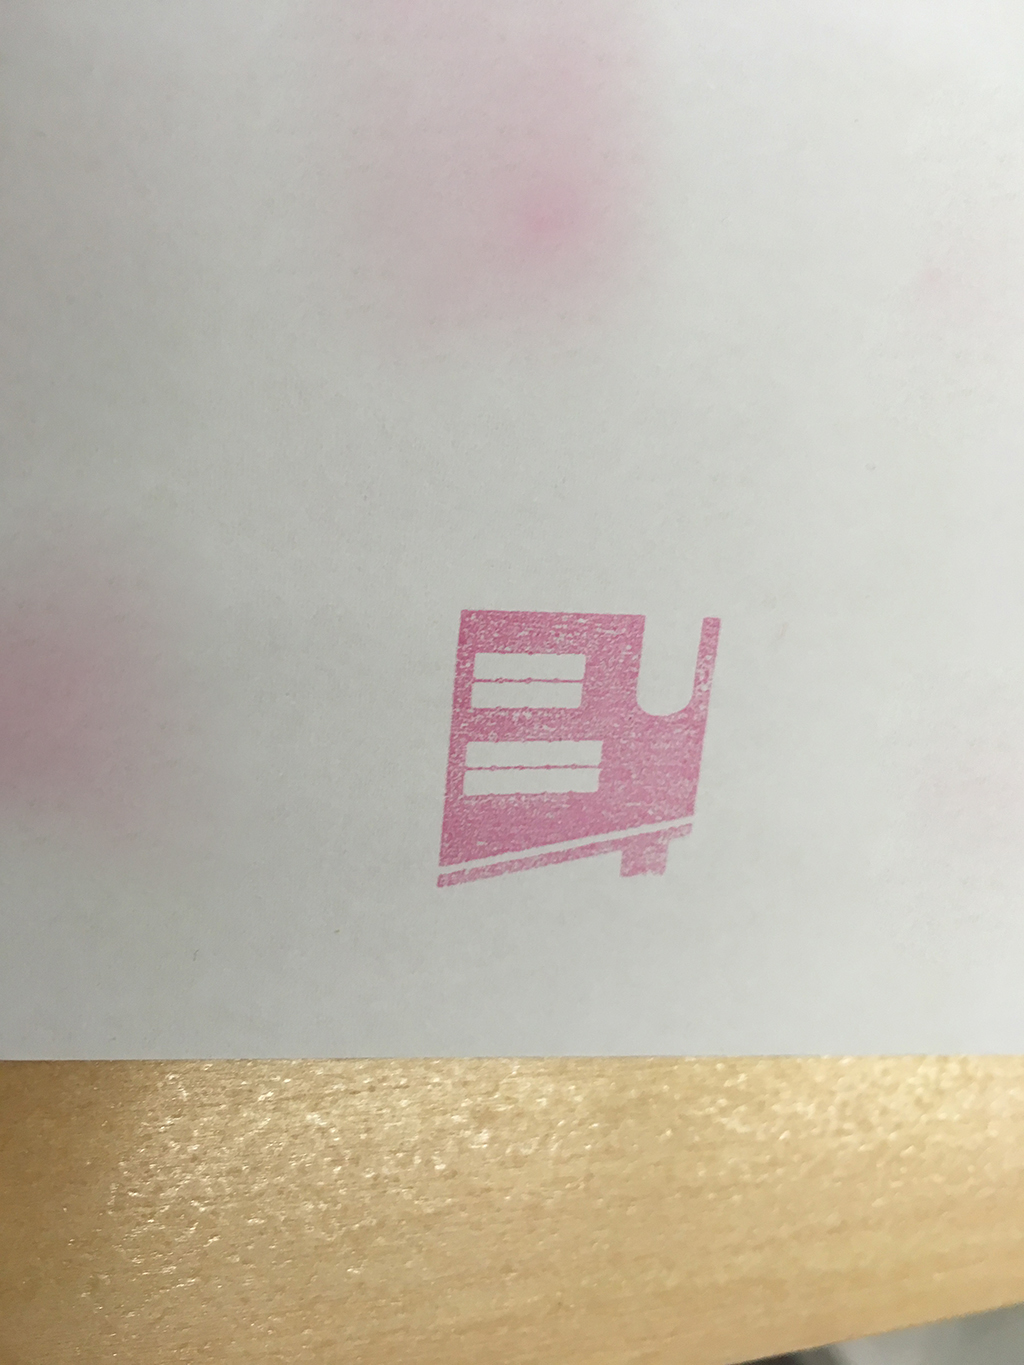house: (425, 592, 743, 913)
